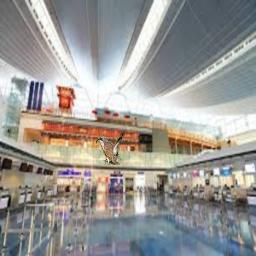Cuckoo: (96, 125, 128, 165)
